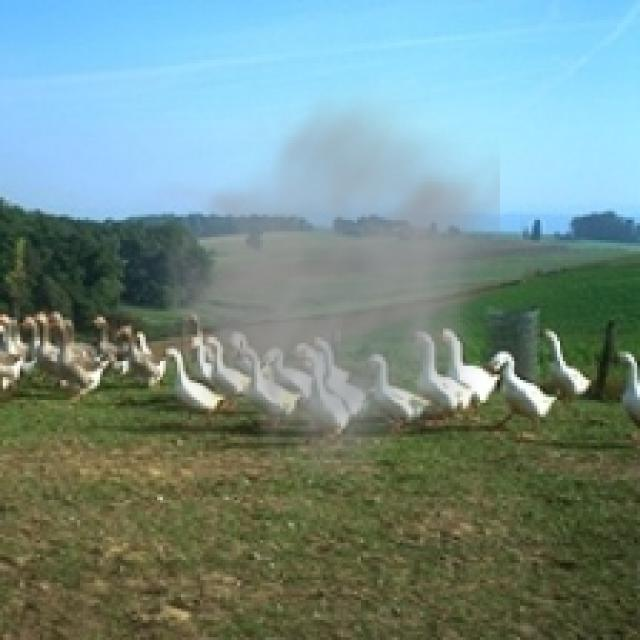smoke: (126, 77, 500, 497)
